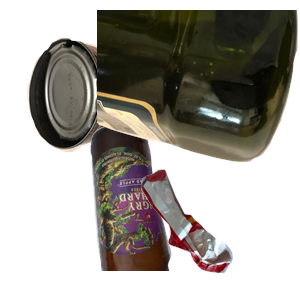glass: (88, 120, 252, 300)
metal: (25, 35, 189, 180)
plastic: (97, 10, 300, 165)
trash: (139, 167, 300, 300)
